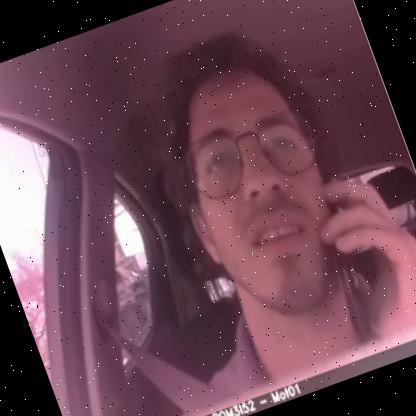phone: (294, 160, 414, 343)
